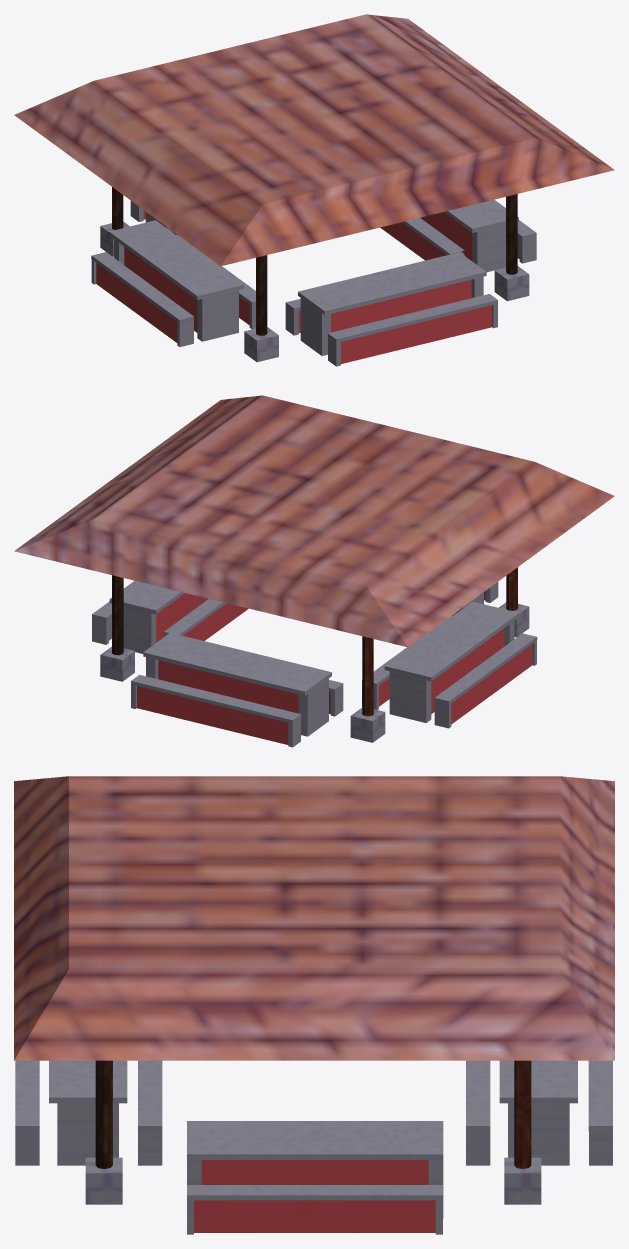
Rendered from CasaMendigo.fbx.
The picture shows the model from 3 angles, top to bottom: view 1: azimuth 30°, elevation 25°; view 2: azimuth 150°, elevation 25°; view 3: azimuth 270°, elevation 25°; orthographic projection. The views are drawn at different scales.
Parts seen in each view (by area): view 1: teto; view 2: teto; view 3: teto.
Part boxes in pixels (left/top/right/bottom): teto: left=14, top=14, right=614, bottom=366; teto: left=14, top=395, right=614, bottom=747; teto: left=14, top=776, right=614, bottom=1234.
Bounding box in the file's own units: 29921 × 11762 × 27183.
